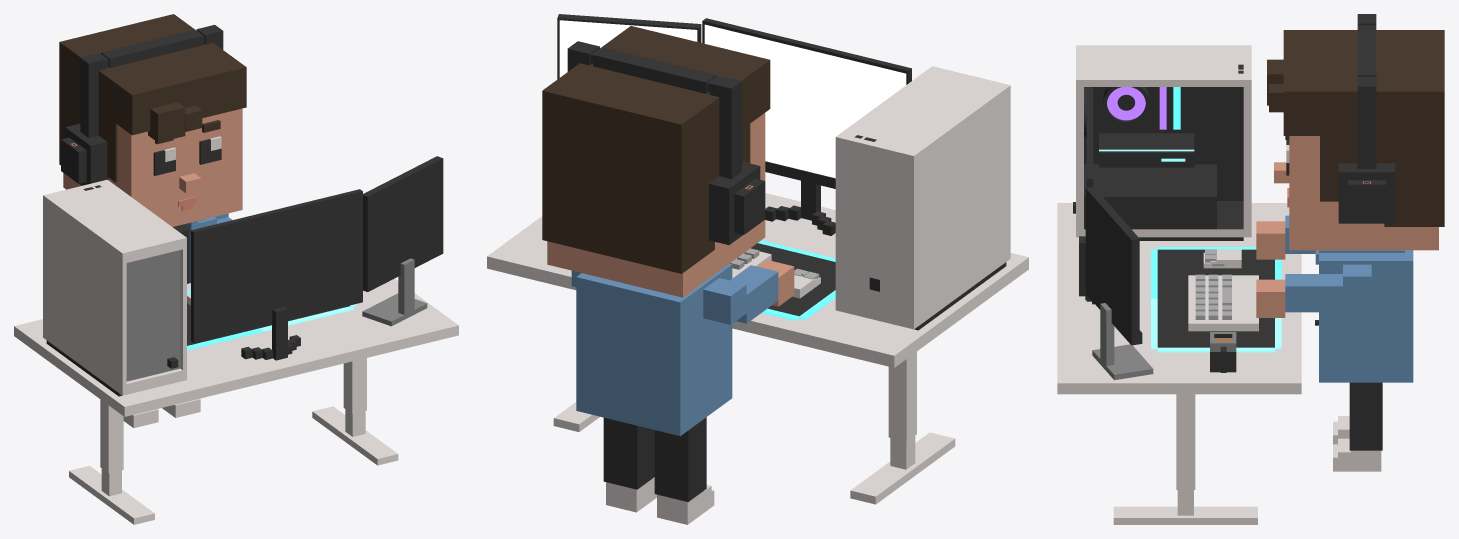
Rendered from adrien.glb.
3 views of the same model, side by side, from view 1: azimuth 30°, elevation 25°; view 2: azimuth 150°, elevation 25°; view 3: azimuth 270°, elevation 25° (orthographic). The views are drawn at different scales.
Parts seen in each view (by area): view 1: Cube.023, Cube.019, Cube.018, Cube.006, Cube.007, Cube.024, Cube.105, Cube.022, Cube.020, Cube.011, Cube.009, Plane.002 (+7 smaller); view 2: Cube.023, Cube.006, Cube.002, Cube.019, Cube.018, Cube.004, Cube.007, Cube.105, Cube.011, Cube.022, Cube.024, Plane.002 (+8 smaller); view 3: Cube.006, Cube.023, Cube.018, Cube.002, Plane.002, Cube.106, Cube.007, Cube.024, Cube.011, Cube.100, Cube.105, Cube.050 (+15 smaller).
Part boxes in pixels (bbox=[...]): Cube.023: bbox=[43, 179, 186, 396]; Cube.019: bbox=[191, 189, 362, 343]; Cube.018: bbox=[14, 278, 458, 416]; Cube.006: bbox=[59, 14, 246, 182]; Cube.007: bbox=[63, 108, 242, 226]; Cube.024: bbox=[363, 156, 443, 291]; Cube.105: bbox=[80, 25, 223, 137]; Cube.022: bbox=[69, 406, 398, 524]; Cube.020: bbox=[100, 358, 366, 473]; Cube.011: bbox=[61, 123, 108, 185]; Cube.009: bbox=[148, 102, 185, 142]; Plane.002: bbox=[187, 290, 355, 350]; Cube.023: bbox=[835, 66, 1010, 330]; Cube.006: bbox=[542, 26, 770, 273]; Cube.002: bbox=[576, 263, 732, 436]; Cube.019: bbox=[702, 18, 911, 188]; Cube.018: bbox=[487, 193, 1028, 367]; Cube.004: bbox=[603, 417, 706, 501]; Cube.007: bbox=[547, 113, 765, 297]; Cube.105: bbox=[567, 41, 741, 178]; Cube.011: bbox=[709, 161, 765, 244]; Cube.022: bbox=[553, 402, 955, 504]; Cube.024: bbox=[557, 14, 701, 79]; Plane.002: bbox=[751, 240, 835, 320]; Cube.006: bbox=[1283, 30, 1444, 226]; Cube.023: bbox=[1076, 45, 1251, 240]; Cube.018: bbox=[1057, 203, 1301, 394]; Cube.002: bbox=[1319, 250, 1413, 382]; Plane.002: bbox=[1151, 247, 1281, 352]; Cube.106: bbox=[1084, 164, 1216, 229]; Cube.007: bbox=[1289, 136, 1438, 250]; Cube.024: bbox=[1085, 187, 1142, 345]; Cube.011: bbox=[1338, 163, 1395, 223]; Cube.100: bbox=[1099, 133, 1194, 167]; Cube.105: bbox=[1357, 14, 1376, 168]; Cube.050: bbox=[1188, 275, 1258, 331].
Size of what is drawn, in the model's own units: 2.3 by 2.27 by 1.98.
